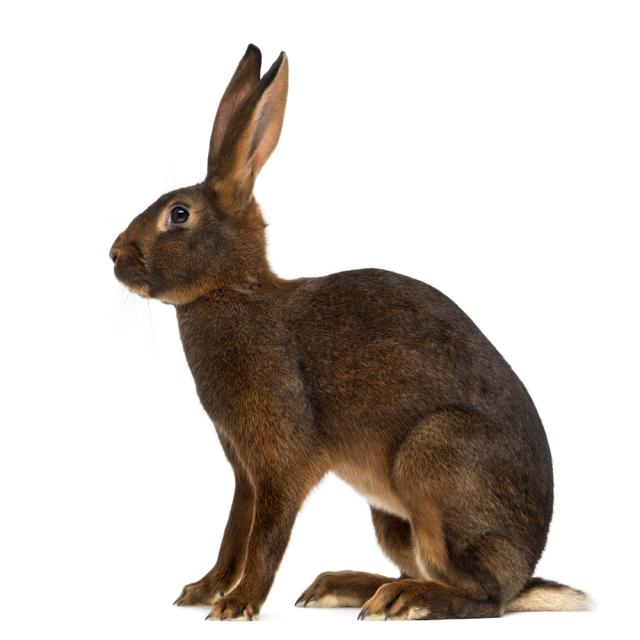Hare: (100, 42, 592, 619)
